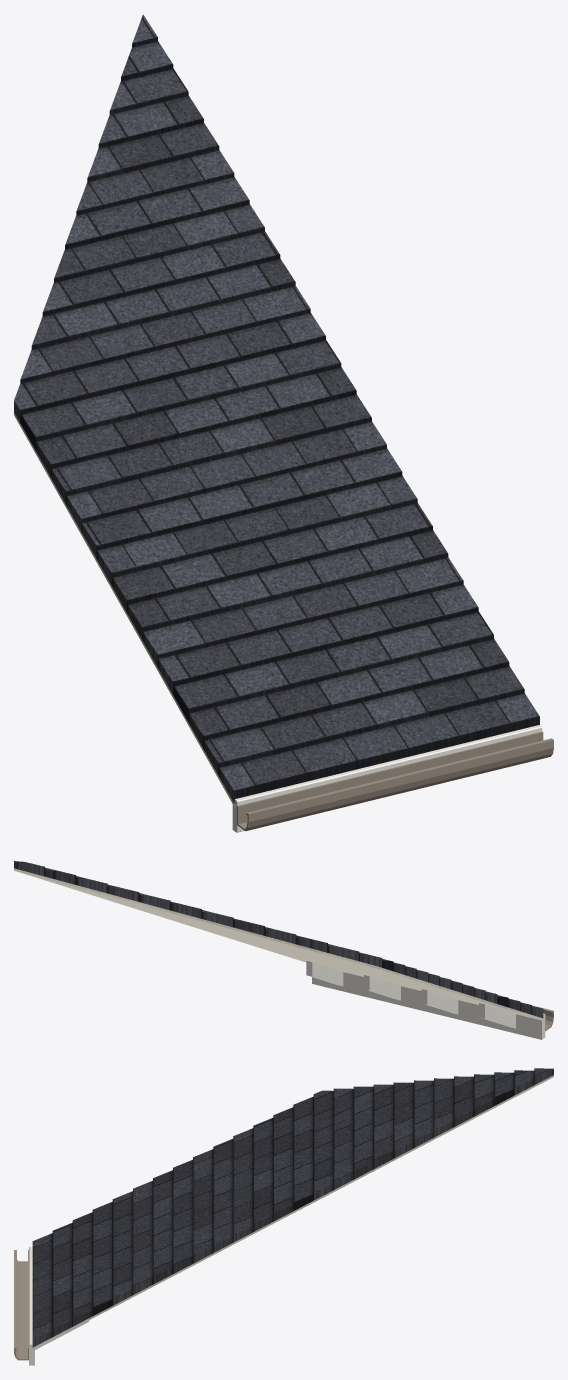
Rendered from roof_main_4_l.glb.
3 renders of one model, top to bottom at view 1: azimuth 30°, elevation 25°; view 2: azimuth 150°, elevation 25°; view 3: azimuth 270°, elevation 25°, orthographic. The views are drawn at different scales.
Visible parts, largest first — view 1: roof_main_4_l_shingles, roof_main_4_l_gutter, roof_main_4_l_trim, roof_main_4_l_plaster; view 2: roof_main_4_l_shingles, roof_main_4_l_plaster, roof_main_4_l_trim; view 3: roof_main_4_l_shingles, roof_main_4_l_gutter, roof_main_4_l_plaster, roof_main_4_l_trim.
Part boxes in pixels (x1,y1,x2,y2): roof_main_4_l_shingles: (14, 14, 539, 803); roof_main_4_l_gutter: (237, 731, 553, 831); roof_main_4_l_trim: (232, 725, 542, 832); roof_main_4_l_plaster: (14, 412, 234, 806); roof_main_4_l_shingles: (14, 861, 543, 1018); roof_main_4_l_plaster: (14, 868, 543, 1020); roof_main_4_l_trim: (306, 961, 545, 1039); roof_main_4_l_shingles: (32, 1068, 553, 1347); roof_main_4_l_gutter: (14, 1250, 28, 1360); roof_main_4_l_plaster: (32, 1075, 553, 1349); roof_main_4_l_trim: (29, 1246, 89, 1365).
Bounding box in the file's own units: 2 × 2.83 × 4.66.
Materials: 4 (2 with a texture image).
